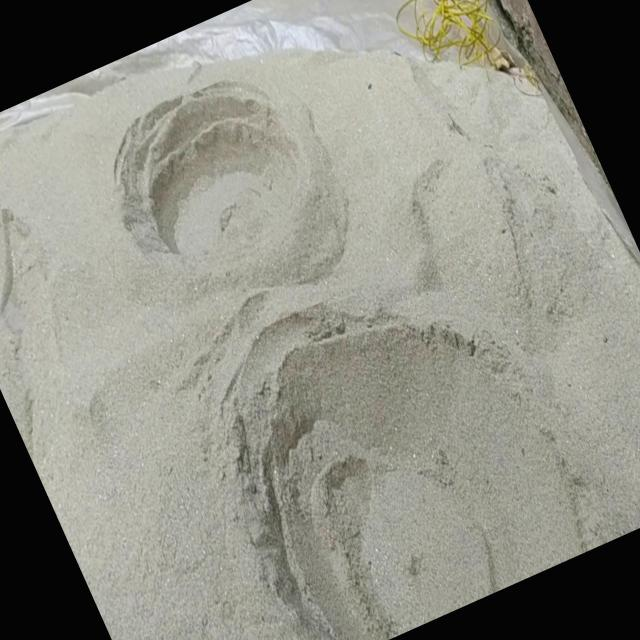C20: (225, 304, 581, 640), (118, 82, 300, 262)
